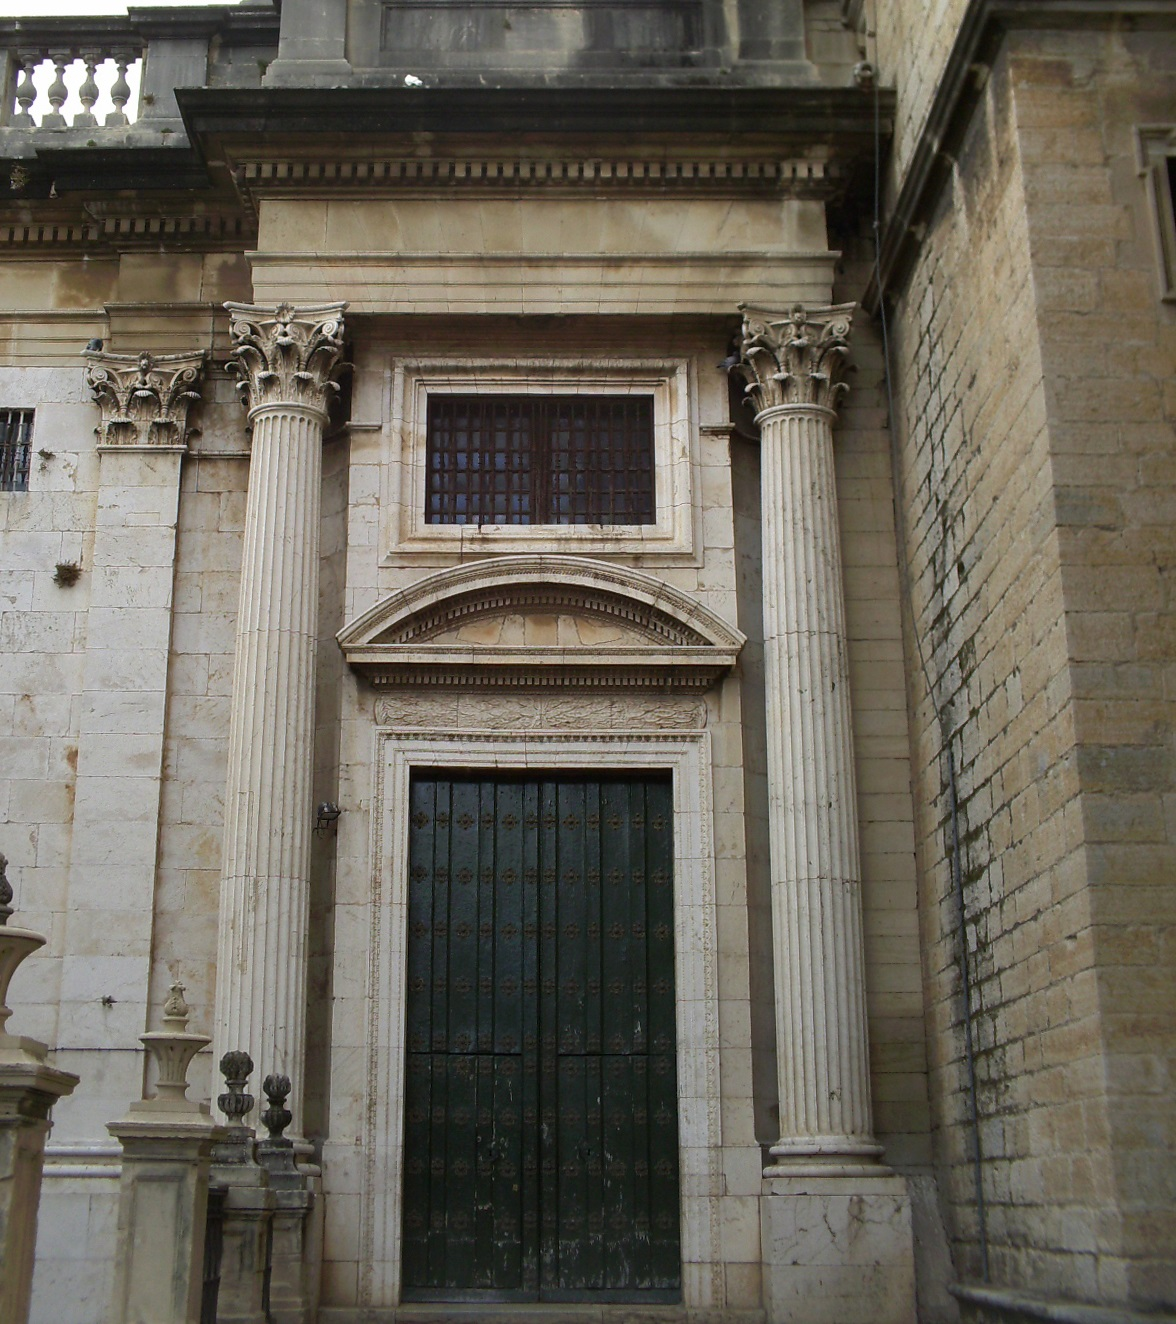fronton-curvo: (326, 547, 761, 687)
vano-adintelado: (352, 711, 736, 1324)
